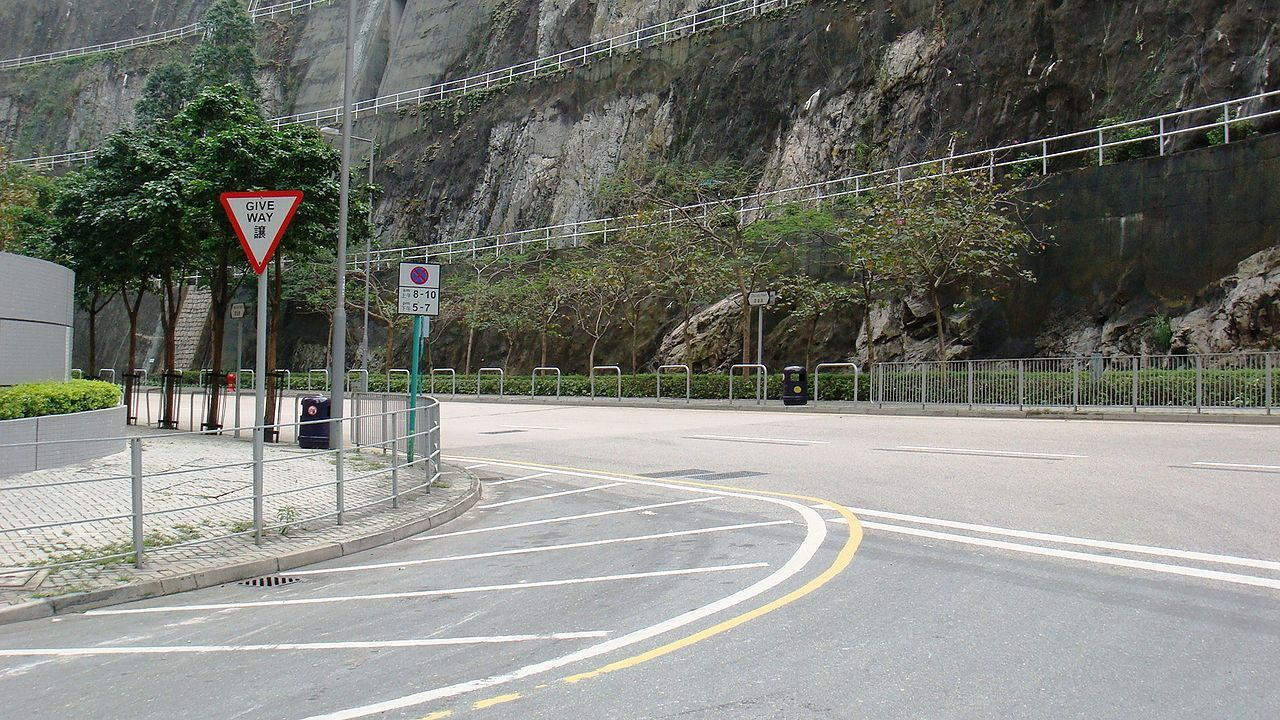Give Way: (218, 192, 307, 274)
Start Of No Stopping: (393, 251, 446, 318)
